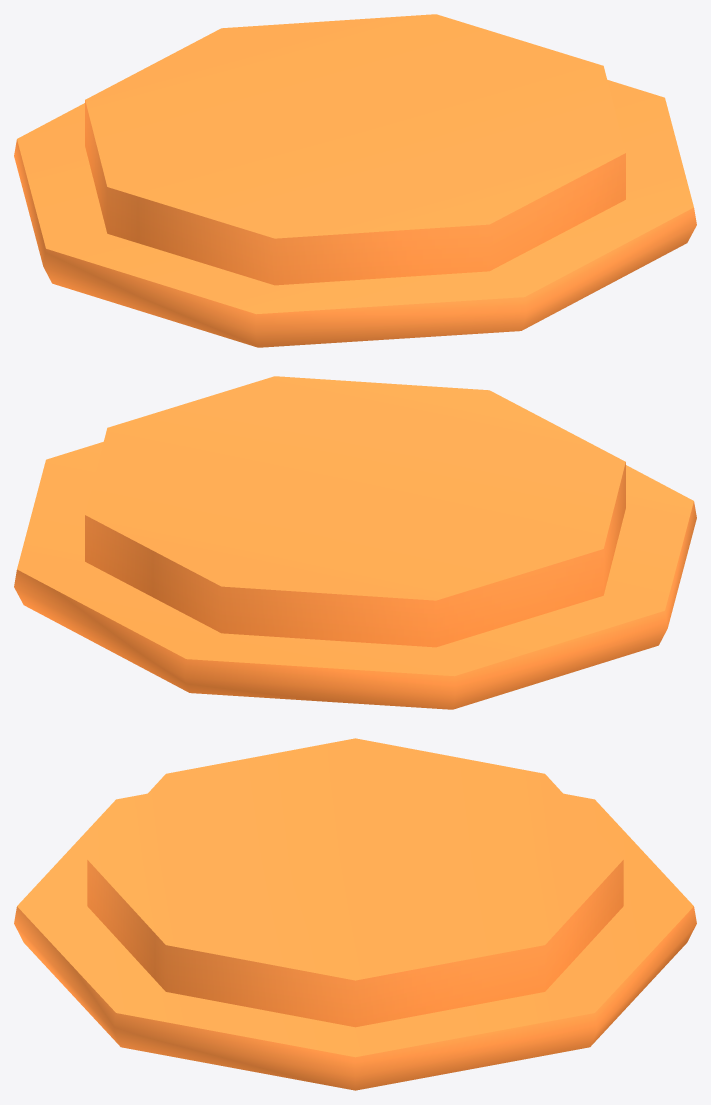
Rendered from bronze_guard_082.glb.
3 renders of one model, top to bottom at view 1: azimuth 30°, elevation 25°; view 2: azimuth 150°, elevation 25°; view 3: azimuth 270°, elevation 25°, orthographic.
Visible parts, largest first — view 1: bronze_guard_082; view 2: bronze_guard_082; view 3: bronze_guard_082.
Part boxes in pixels (bbox=[...]): bronze_guard_082: bbox=[14, 14, 696, 347]; bronze_guard_082: bbox=[14, 376, 696, 709]; bronze_guard_082: bbox=[14, 738, 696, 1090].
Bounding box in the file's own units: 5.19 × 0.6605 × 4.92.
Materials: 1 (1 with a texture image).
